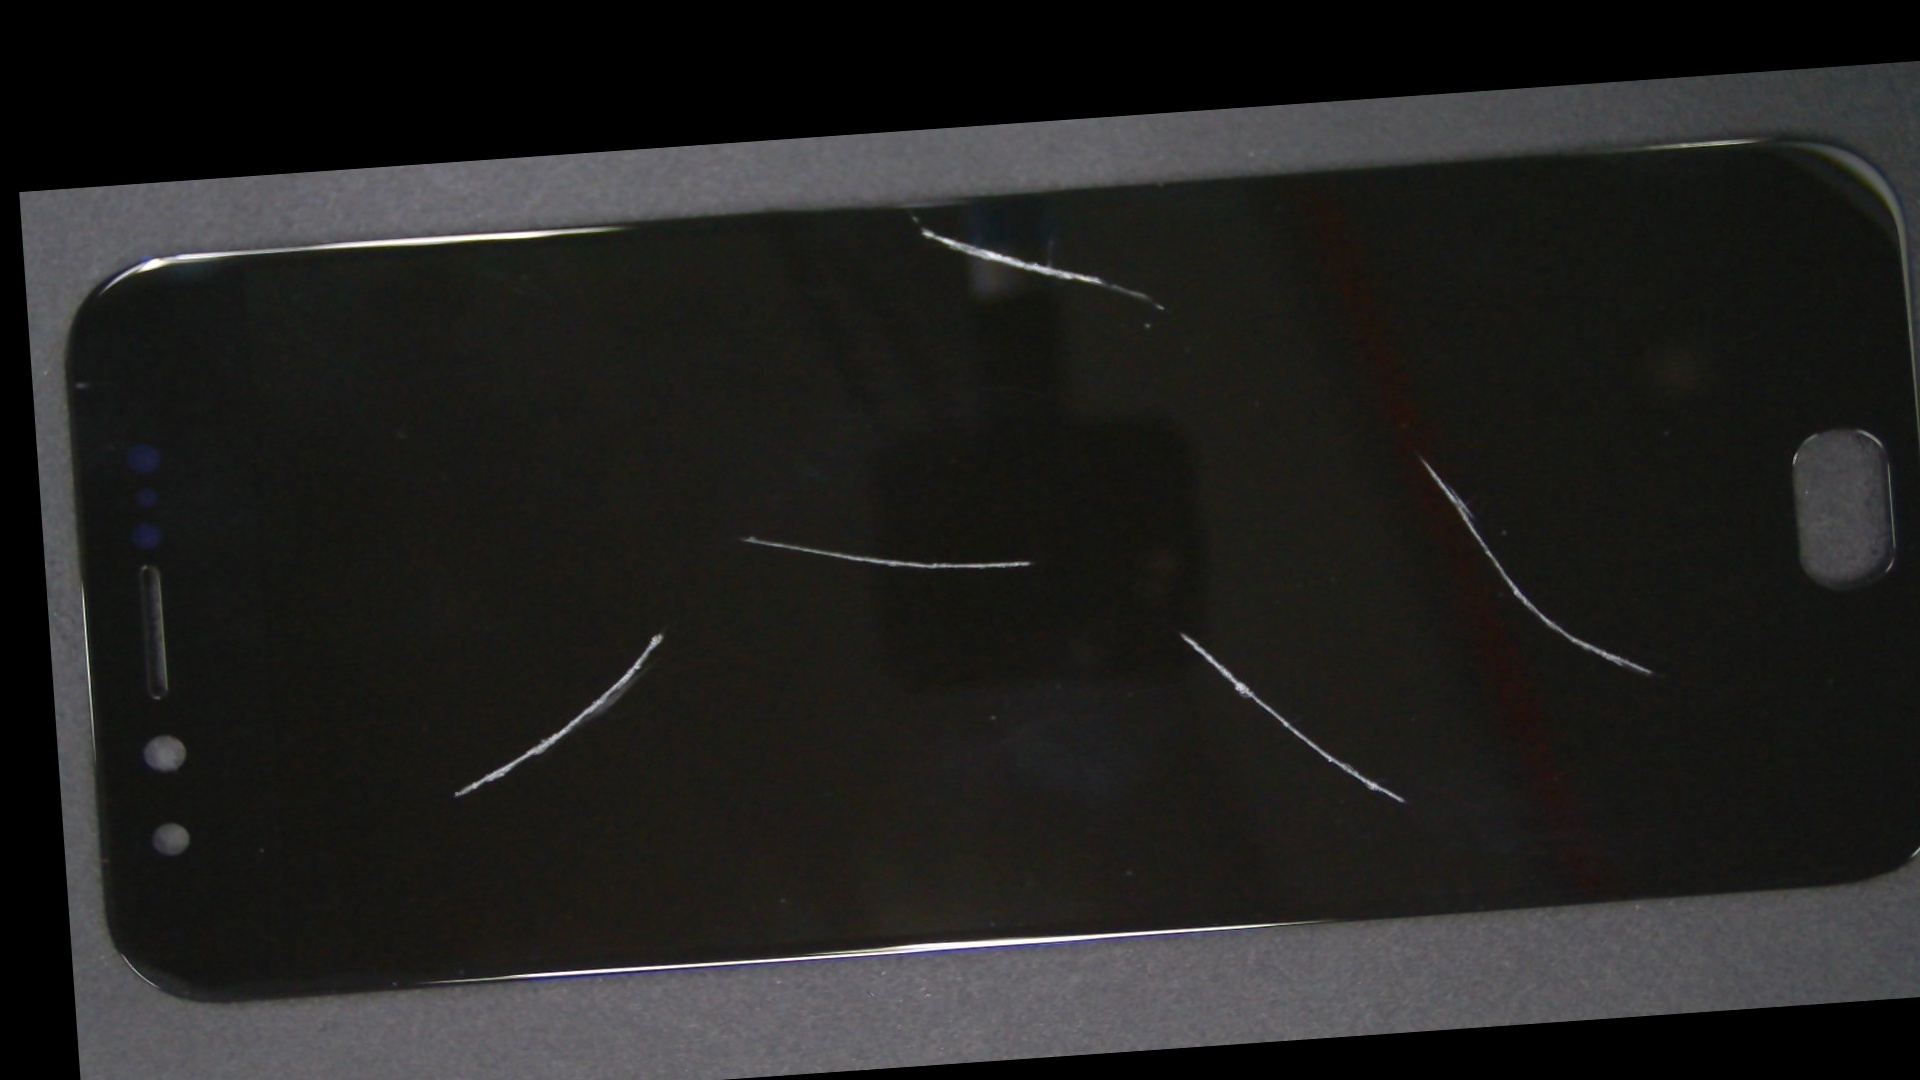oil: (600, 334, 1760, 930), (720, 237, 1920, 683), (339, 371, 977, 898), (385, 315, 1117, 757), (465, 140, 1360, 291)
